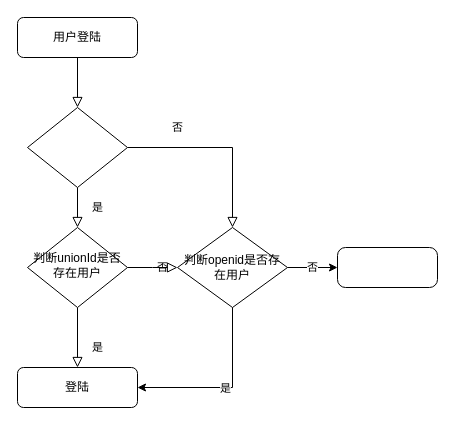
The diagram is 455 pixels wide and 425 high, and some of its shapes have lost their labels. Here are the shapes that lost their labels. From the top down, the box of each, then its label:
(26, 106, 128, 188): 是否有unionId
(336, 246, 438, 288): 注册并登陆
